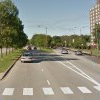crosswalk: (0, 86, 99, 95)
